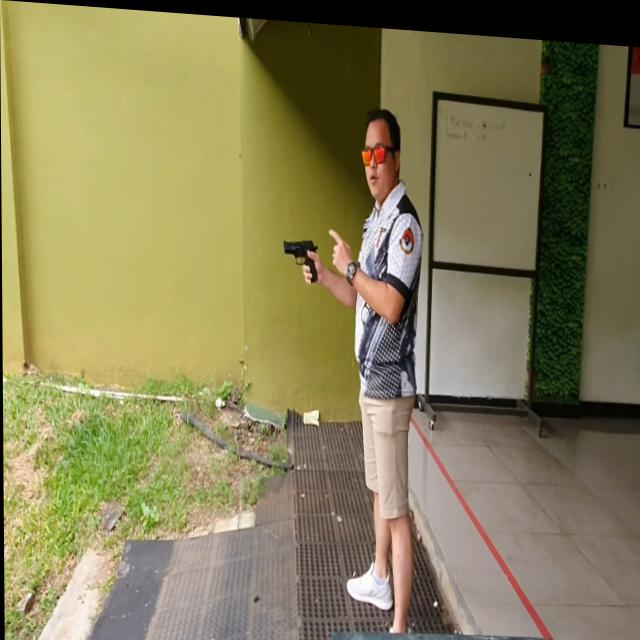handgun: (280, 230, 322, 282)
